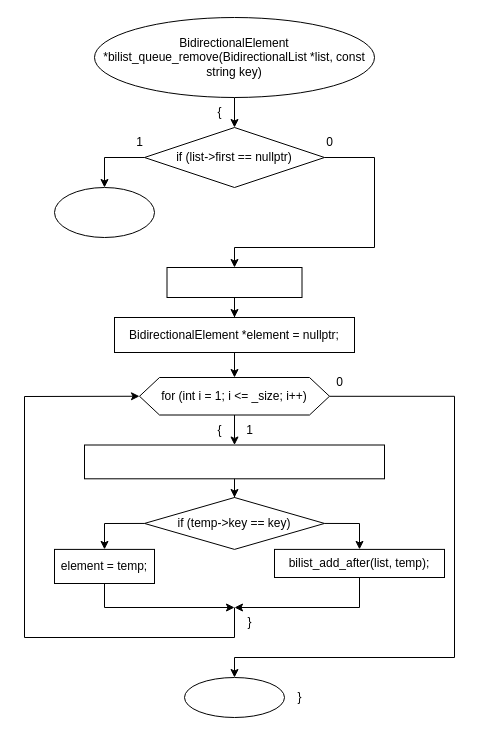
Image size: 480x735. Some labels were removed from this diagram. The shapes that lost their labels are listed below. From the top down, each one's centre as x and y in pixels, then its label:
At point (104, 212): "return nullptr;".
At point (234, 282): "int _size = list->size;".
At point (234, 461): "BidirectionalElement *temp = bilist_pop_first(list);".
At point (234, 697): "return element;".
